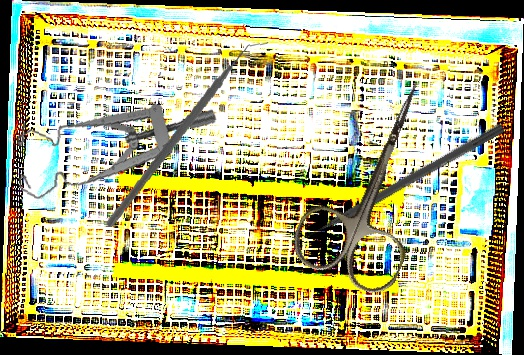Chopper: (106, 27, 270, 242)
Iris Scissors: (284, 61, 471, 301)
Pusher: (294, 121, 506, 246)
Speculum: (7, 80, 219, 224)
